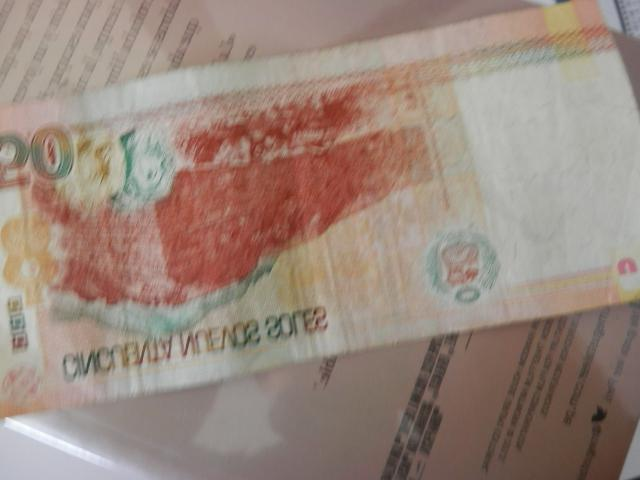B50: (1, 1, 639, 419)
